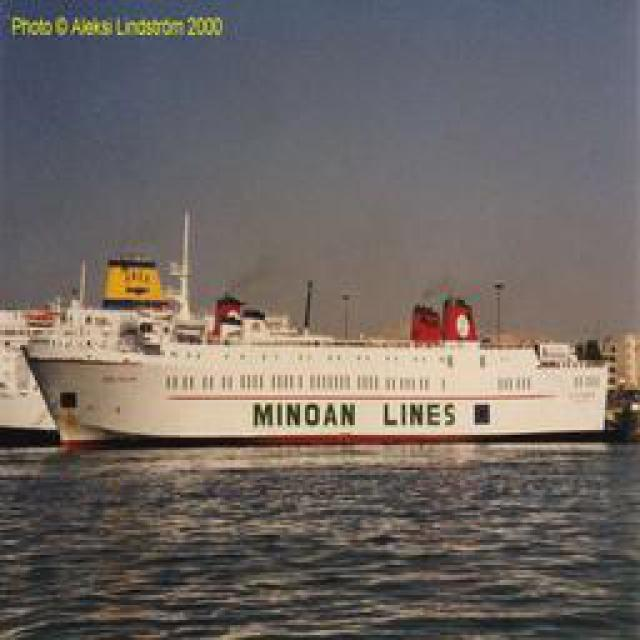Ship: (7, 275, 635, 453)
